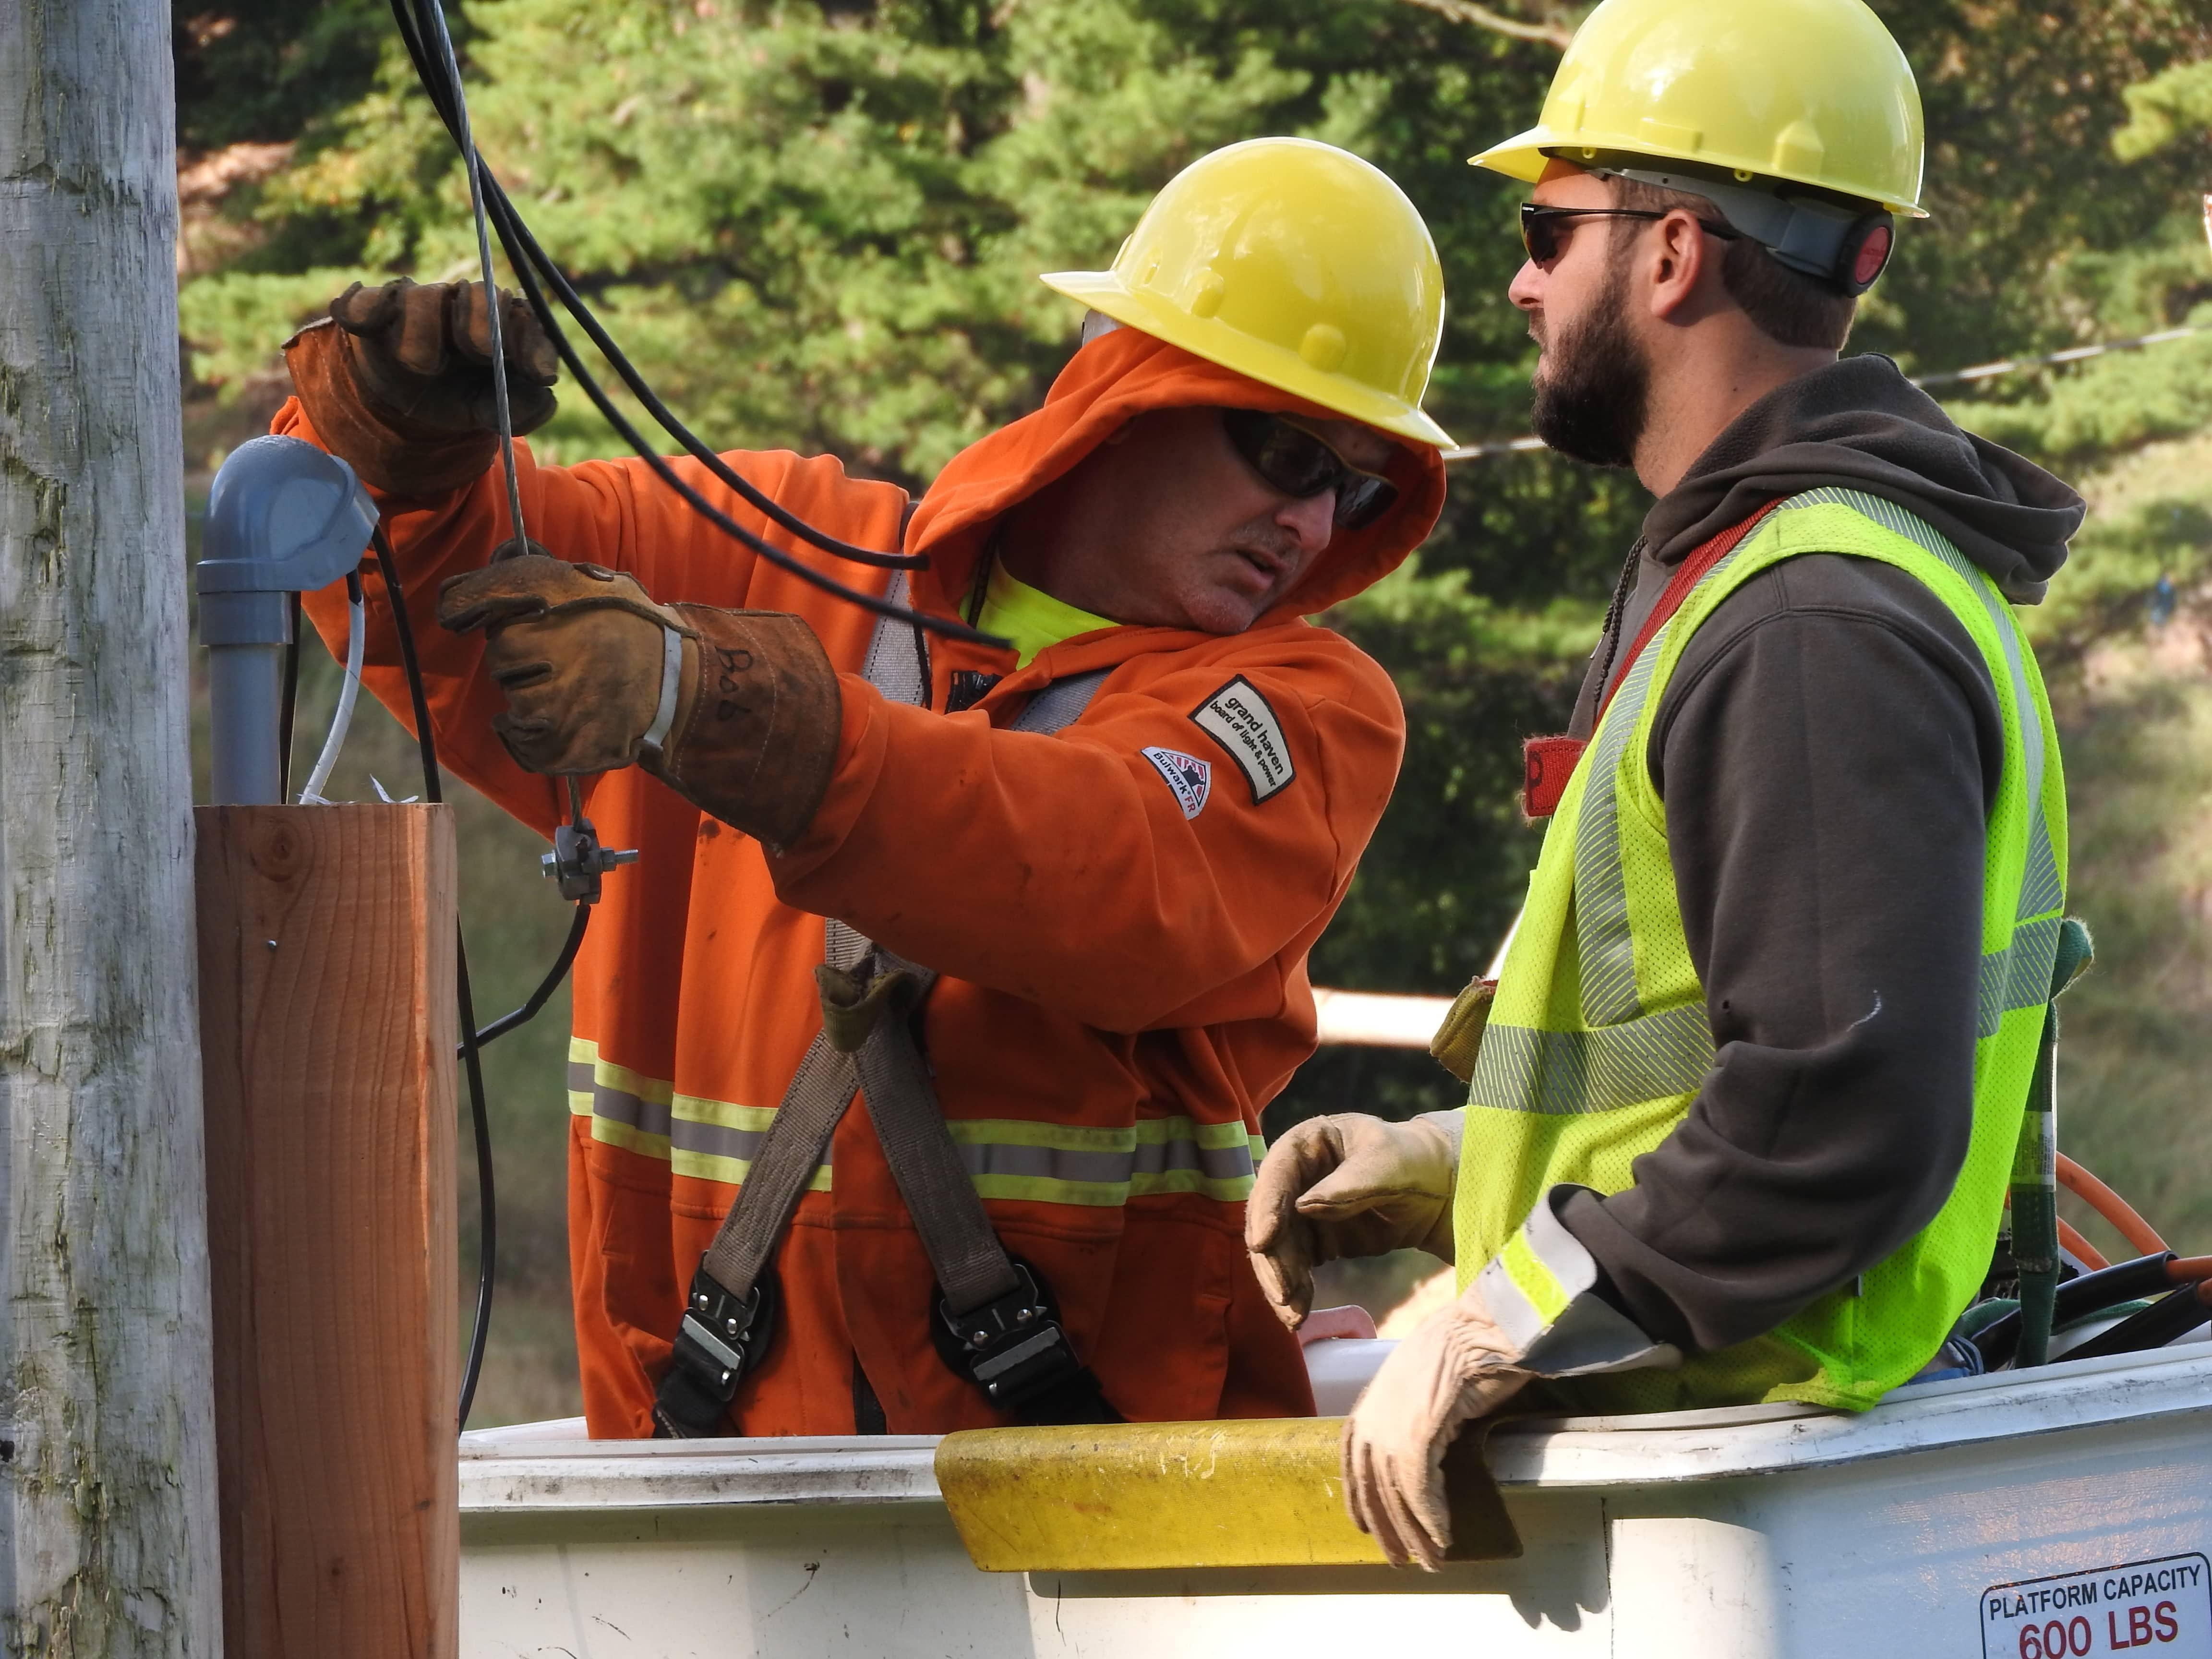helmet: (1059, 139, 1463, 462), (1474, 0, 1944, 204)
